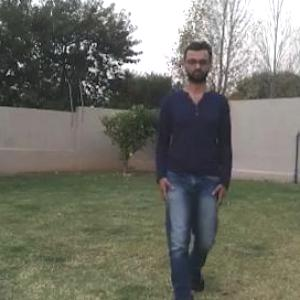follow: (159, 54, 223, 299)
